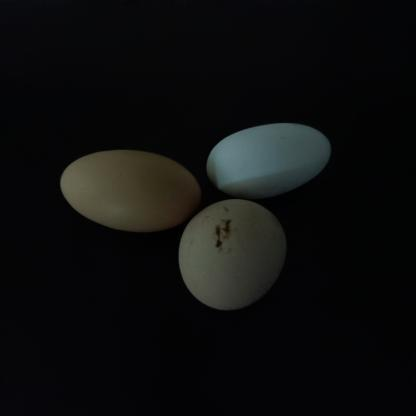egg: (170, 194, 290, 318), (56, 140, 204, 236), (212, 113, 338, 203)
